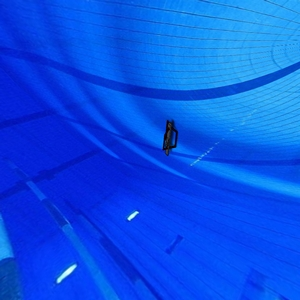submarine: (159, 116, 182, 161)
